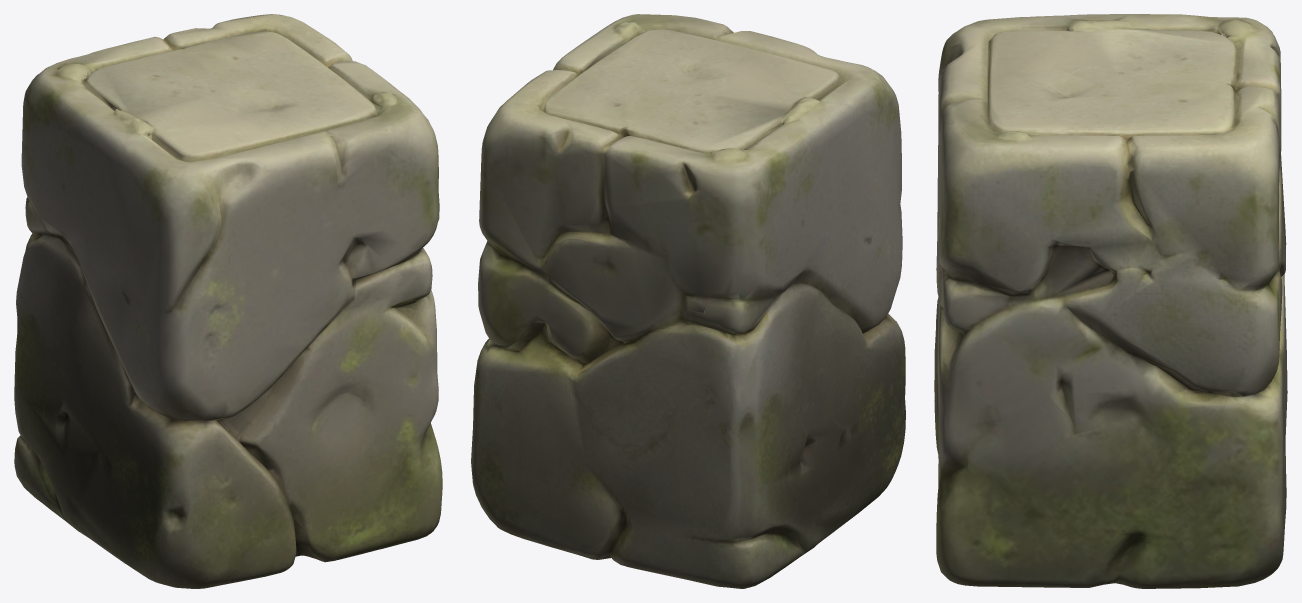
File: pillar8.glb
The picture shows the model from 3 angles, left to right: view 1: azimuth 30°, elevation 25°; view 2: azimuth 150°, elevation 25°; view 3: azimuth 270°, elevation 25°; orthographic projection. The views are drawn at different scales.
Parts seen in each view (by area): view 1: world; view 2: world; view 3: world.
Boxes of the visible parts, x1,y1,x2,y2 form: world: [14, 14, 442, 588]; world: [471, 14, 905, 588]; world: [934, 14, 1287, 588].
Size of the model in its own units: 0.7115 by 1 by 0.7129.
Materials: 1 (1 with a texture image).
